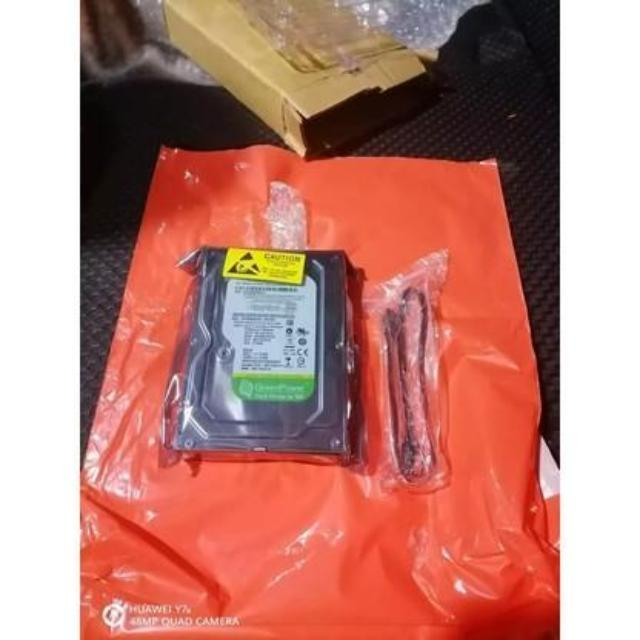DISK: (172, 248, 350, 454)
